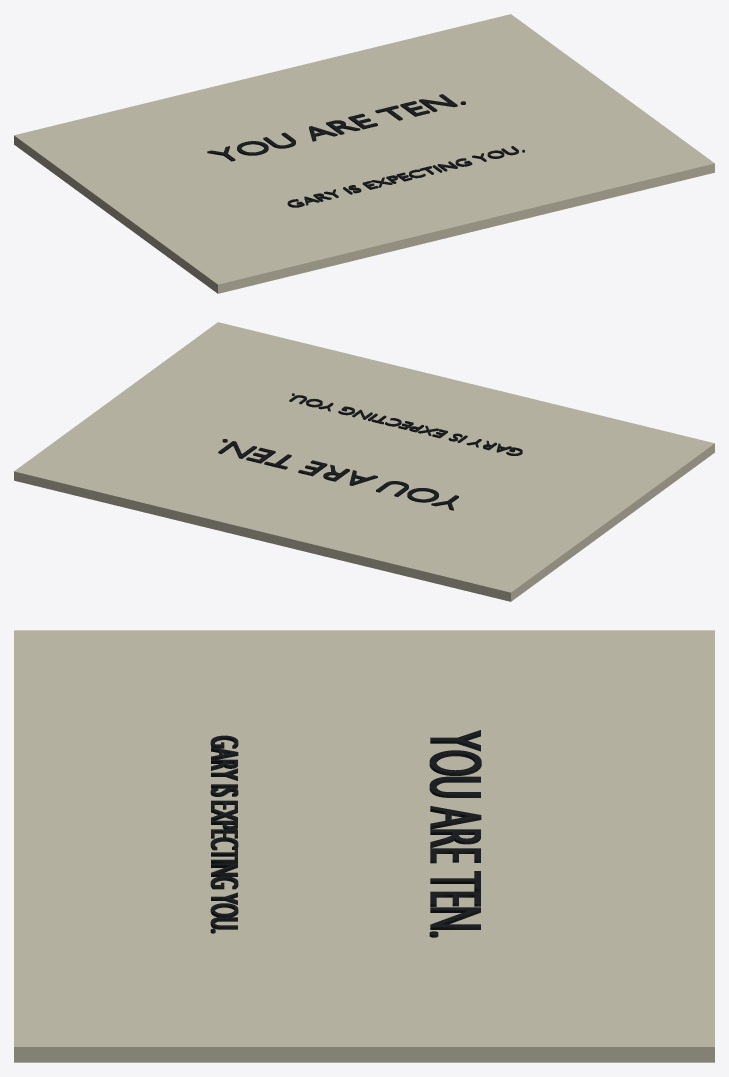
Rendered from letter.glb.
3 renders of one model, top to bottom at view 1: azimuth 30°, elevation 25°; view 2: azimuth 150°, elevation 25°; view 3: azimuth 270°, elevation 25°, orthographic. The views are drawn at different scales.
Visible parts, largest first — view 1: Note, Note heading, Note footer; view 2: Note, Note heading, Note footer; view 3: Note, Note heading, Note footer.
Part boxes in pixels (x1=…): Note: x1=14, y1=14, x2=714, y2=293; Note heading: x1=207, y1=94, x2=465, y2=161; Note footer: x1=287, y1=146, x2=524, y2=207; Note: x1=14, y1=322, x2=714, y2=601; Note heading: x1=218, y1=439, x2=458, y2=510; Note footer: x1=289, y1=393, x2=522, y2=455; Note: x1=14, y1=630, x2=714, y2=1062; Note heading: x1=429, y1=730, x2=481, y2=937; Note footer: x1=210, y1=735, x2=238, y2=933.
Bounding box in the file's own units: 0.45 × 0.0107 × 0.32.
